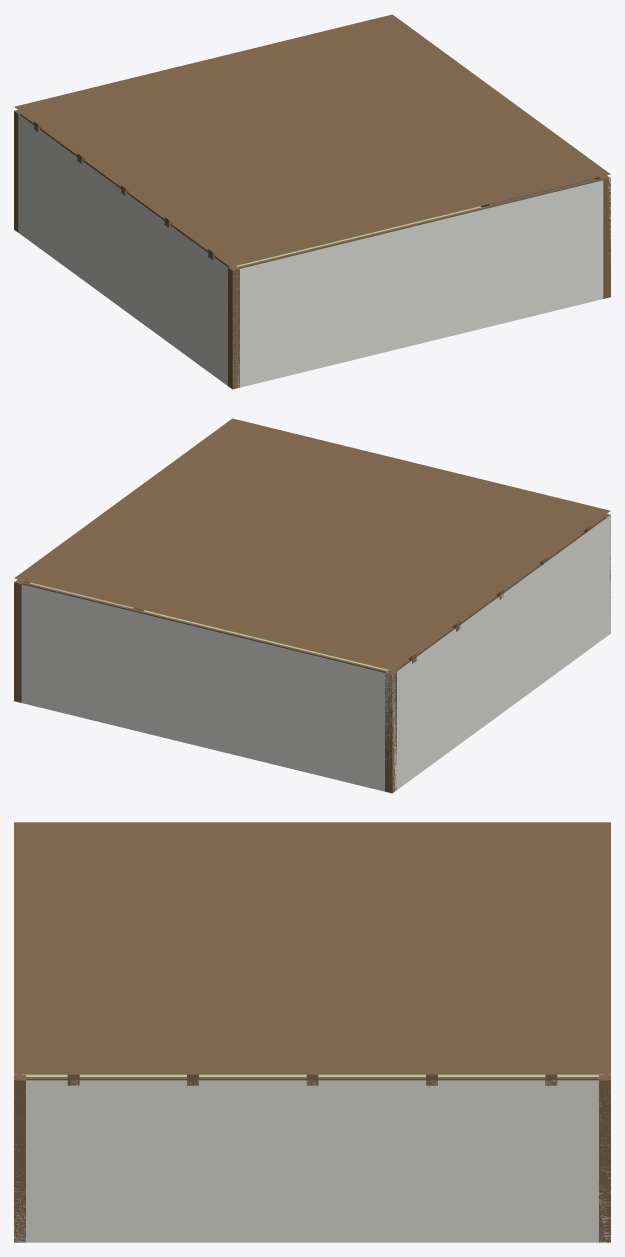
Rendered from VR_Karate_Dojo.fbx.
3 renders of one model, top to bottom at view 1: azimuth 30°, elevation 25°; view 2: azimuth 150°, elevation 25°; view 3: azimuth 270°, elevation 25°, orthographic. The views are drawn at different scales.
Parts seen in each view (by area): view 1: Ceiling, Walls, Trim_Crown, Ceiling_Beam_H_2, Ceiling_Beam_H_4, Ceiling_Beam_H_0, Pillar_-4.9_-4.9, Pillar_4.9_-4.9, Pillar_-4.9_4.9; view 2: Ceiling, Walls, Trim_Crown, Ceiling_Beam_H_2, Ceiling_Beam_H_4, Ceiling_Beam_H_0, Pillar_-4.9_4.9, Pillar_4.9_4.9; view 3: Ceiling, Walls, Ceiling_Beam_H_4, Ceiling_Beam_H_0, Ceiling_Beam_H_2, Trim_Crown, Pillar_4.9_4.9, Pillar_4.9_-4.9, Tatami_Floor.
Boxes of the visible parts, x1,y1,x2,y2 form: Ceiling: (14,14,610,266); Walls: (18,114,610,387); Trim_Crown: (20,113,607,269); Ceiling_Beam_H_2: (77,61,459,163); Ceiling_Beam_H_4: (33,29,415,131); Ceiling_Beam_H_0: (121,93,500,195); Pillar_-4.9_-4.9: (228,266,239,389); Pillar_4.9_-4.9: (599,175,610,298); Pillar_-4.9_4.9: (14,110,21,232); Ceiling: (14,418,610,670); Walls: (19,515,610,791); Trim_Crown: (22,514,607,672); Ceiling_Beam_H_2: (78,529,460,631); Ceiling_Beam_H_4: (34,561,416,663); Ceiling_Beam_H_0: (121,497,503,599); Pillar_-4.9_4.9: (385,670,396,793); Pillar_4.9_4.9: (14,579,25,702); Ceiling: (14,822,610,1074); Walls: (14,1080,610,1242); Ceiling_Beam_H_4: (545,822,557,1085); Ceiling_Beam_H_0: (306,822,318,1085); Ceiling_Beam_H_2: (426,822,437,1085); Trim_Crown: (17,1074,607,1080); Pillar_4.9_4.9: (599,1075,610,1242); Pillar_4.9_-4.9: (14,1075,25,1242); Tatami_Floor: (14,1074,610,1076).
Size of the model in its own units: 1000 by 310 by 1000.
